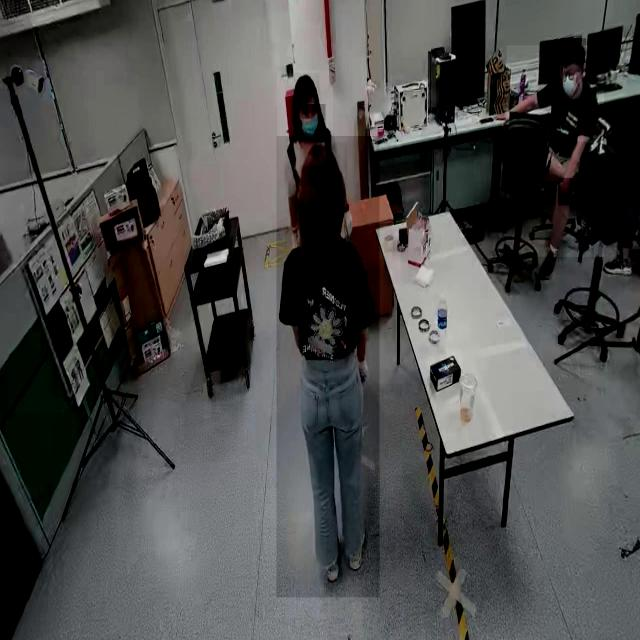face_mask: (298, 104, 326, 142), (560, 65, 580, 99)
hand_noglove: (558, 178, 572, 206), (493, 105, 513, 124)
head_nohelmet: (299, 142, 347, 188), (293, 73, 319, 104), (560, 38, 586, 64)
person: (276, 136, 380, 598), (506, 45, 604, 258), (277, 70, 333, 228)
shoes: (318, 530, 343, 584), (346, 515, 367, 577)
